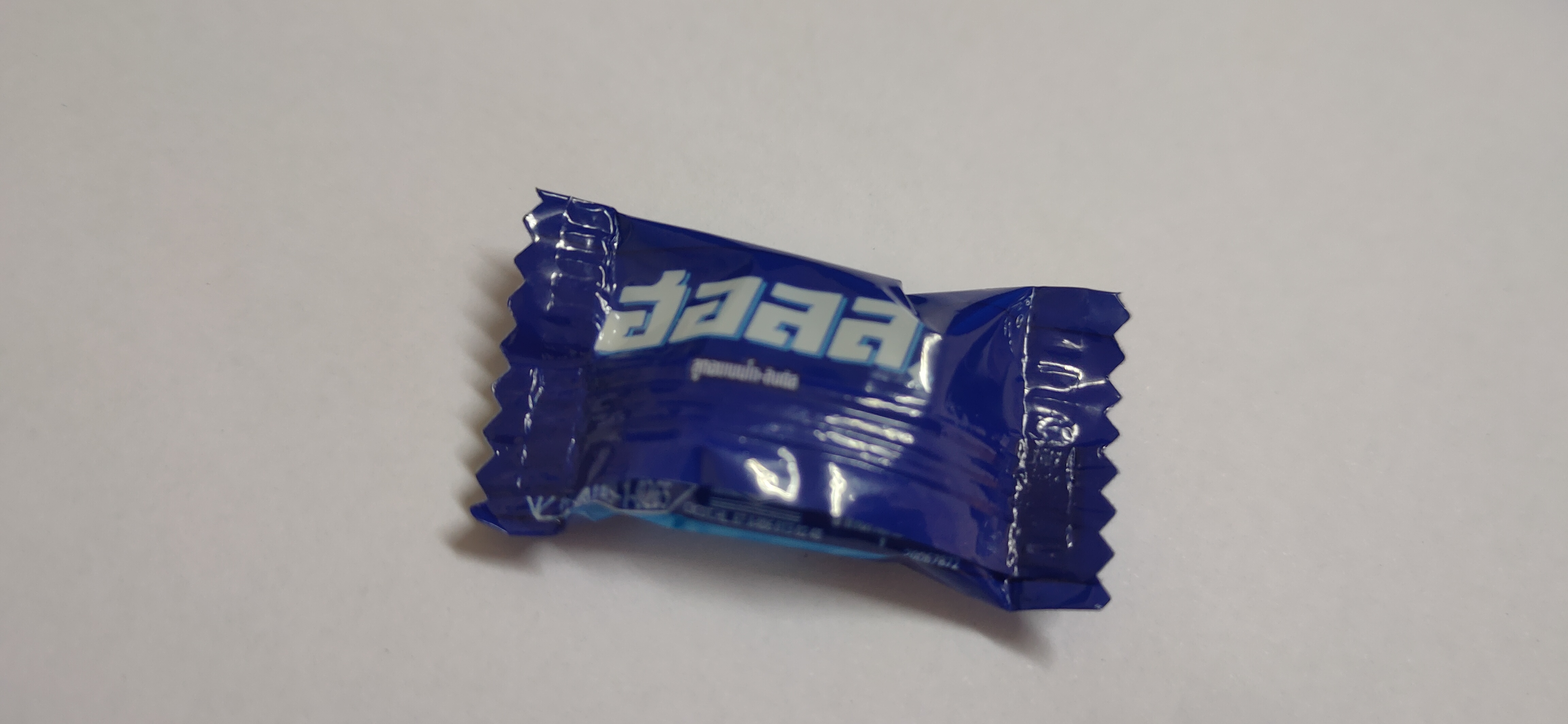plastic: (467, 184, 1144, 636)
